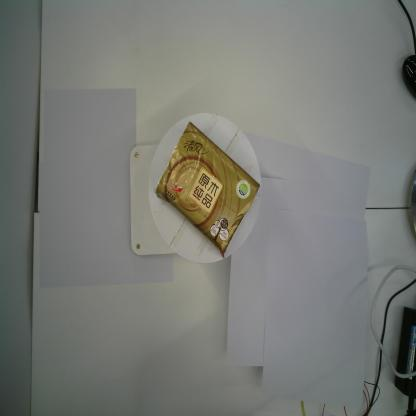Tissue: (154, 121, 260, 259)
